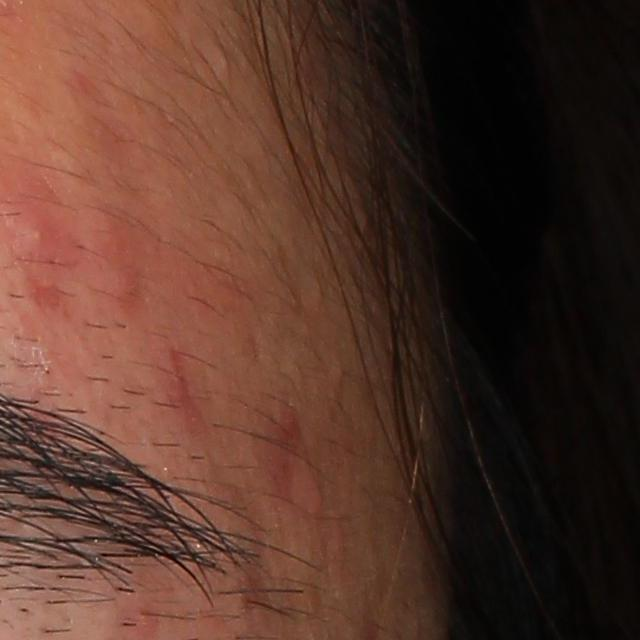papule: (277, 400, 303, 436), (306, 481, 326, 516)
